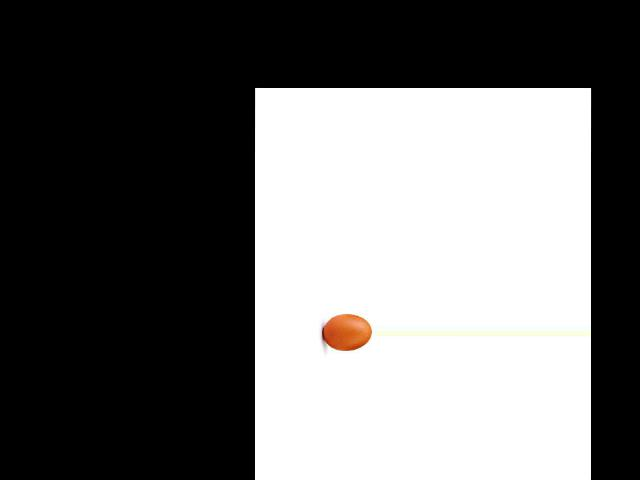egg: (322, 314, 371, 350)
